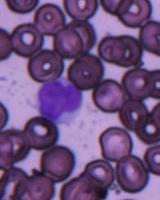M: (36, 76, 84, 124)
